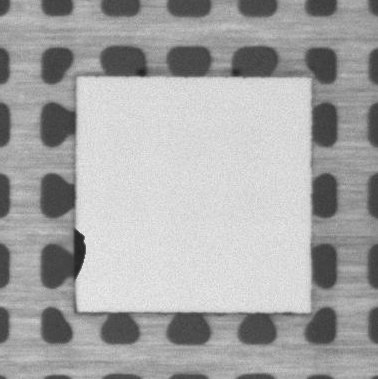DIE_BROKEN: (71, 227, 88, 280)
